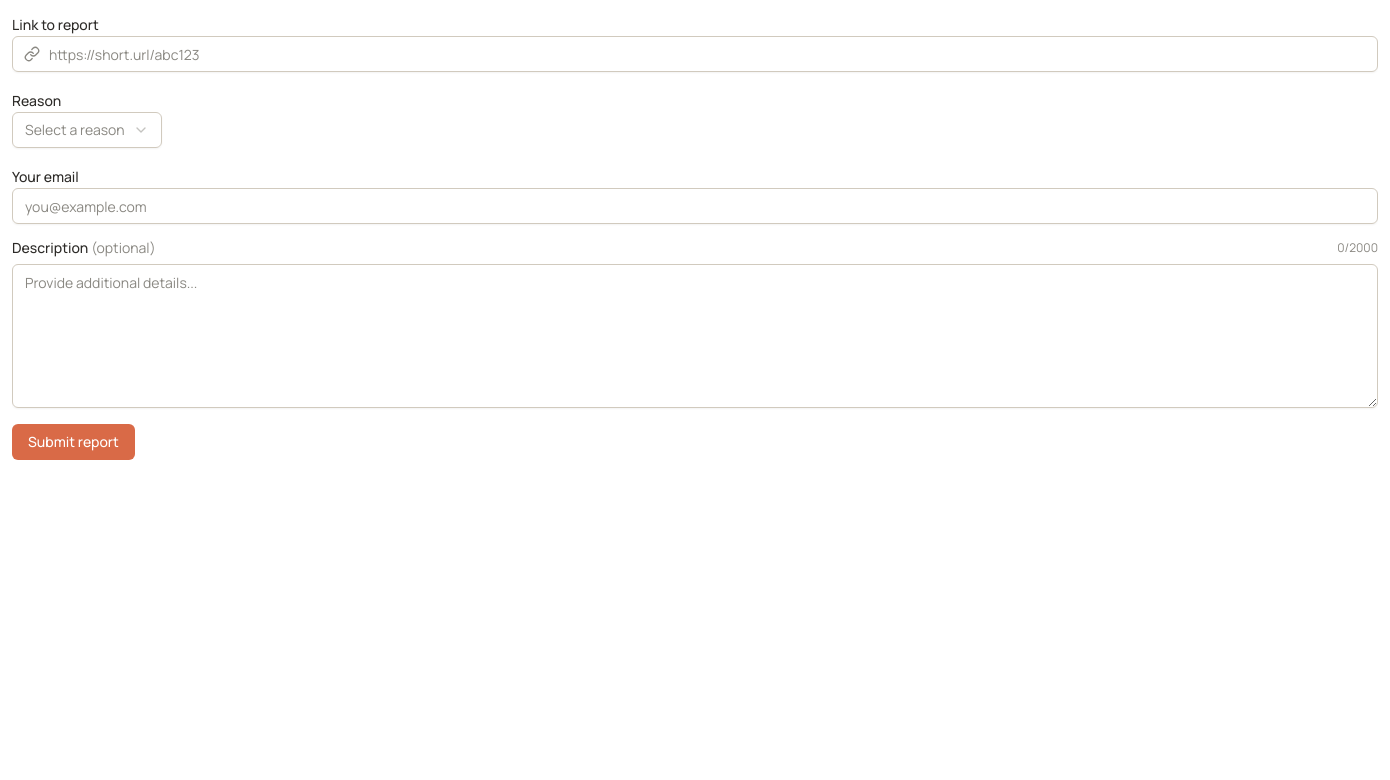
Scenario: ReportAbuseForm validation › clears the email error as soon as the user types an email
Click the button "Submit report": {"x": 73, "y": 442} [12,424,135,460]
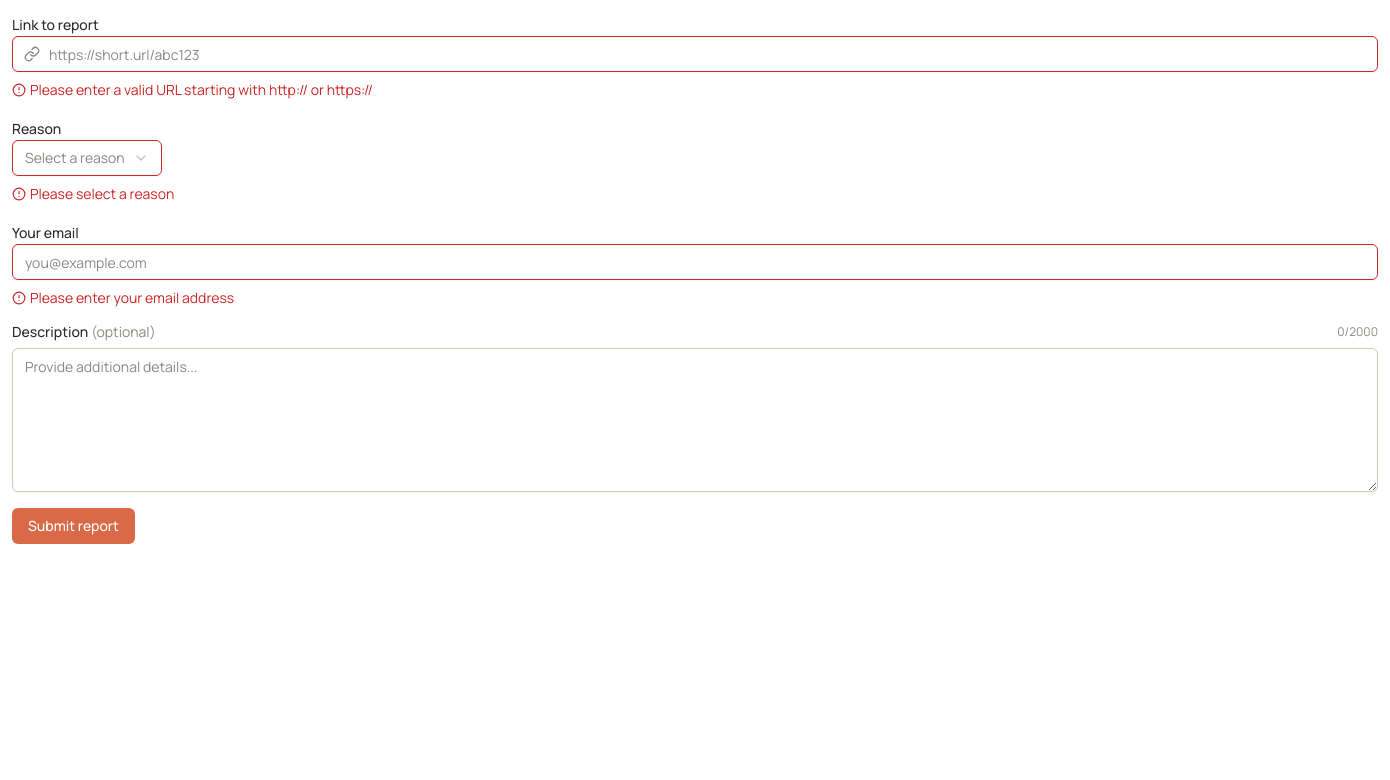
In the field labelled "Your email": {"x": 695, "y": 262} [12,244,1378,280], type "a"
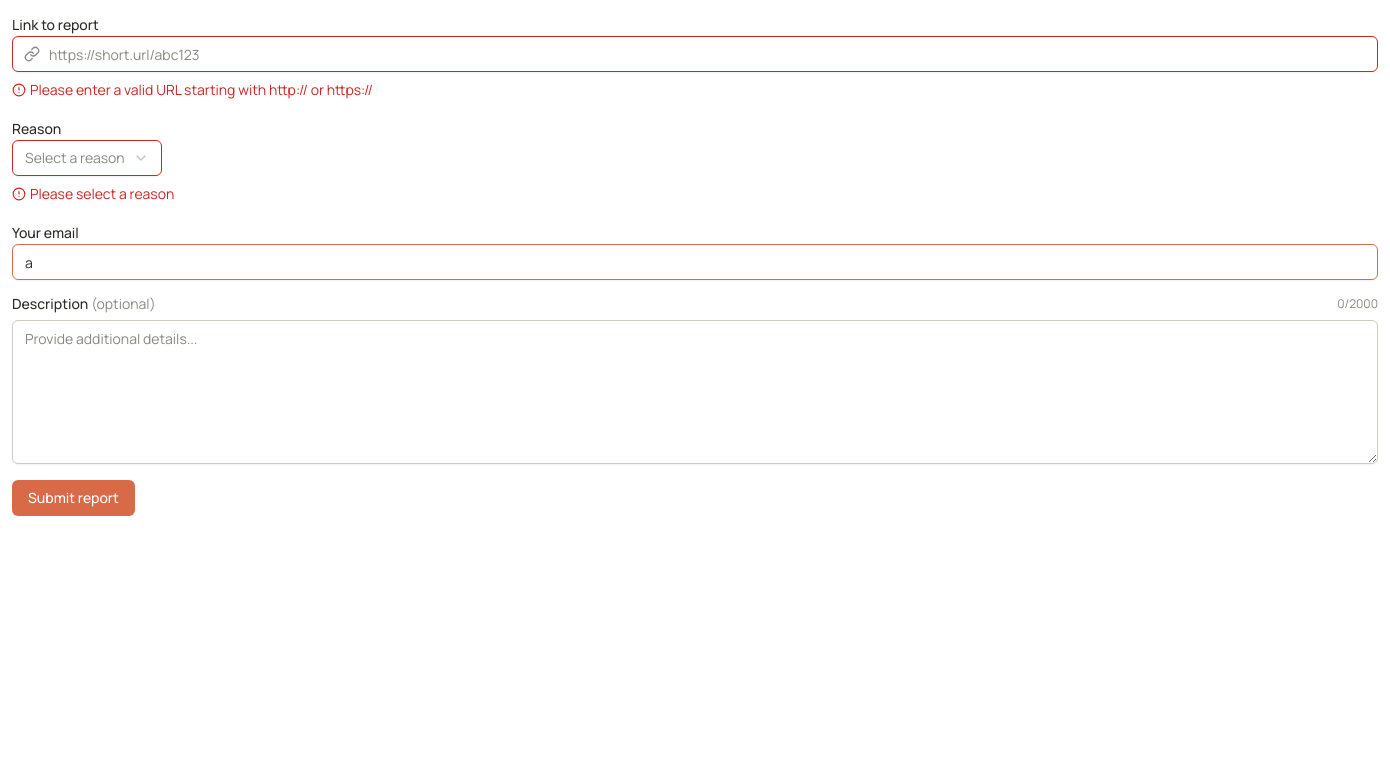
Expected: the text "Please enter your email address" is gone
